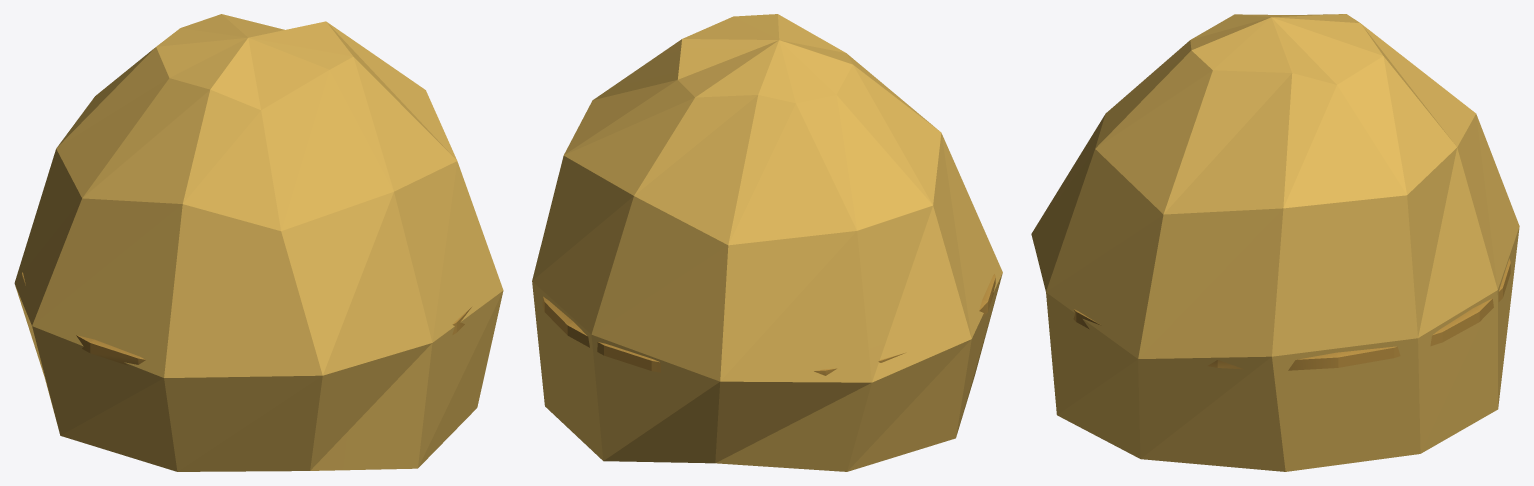
File: haystack.glb
The picture shows the model from 3 angles, left to right: view 1: azimuth 30°, elevation 25°; view 2: azimuth 150°, elevation 25°; view 3: azimuth 270°, elevation 25°; orthographic projection.
Parts seen in each view (by area): view 1: haystack; view 2: haystack; view 3: haystack.
Boxes of the visible parts, box(x1,y1,x2,y2) form: haystack: box(14, 14, 503, 471); haystack: box(532, 14, 1002, 471); haystack: box(1031, 14, 1519, 471).
Bounding box in the file's own units: 1.99 × 1.66 × 2.
